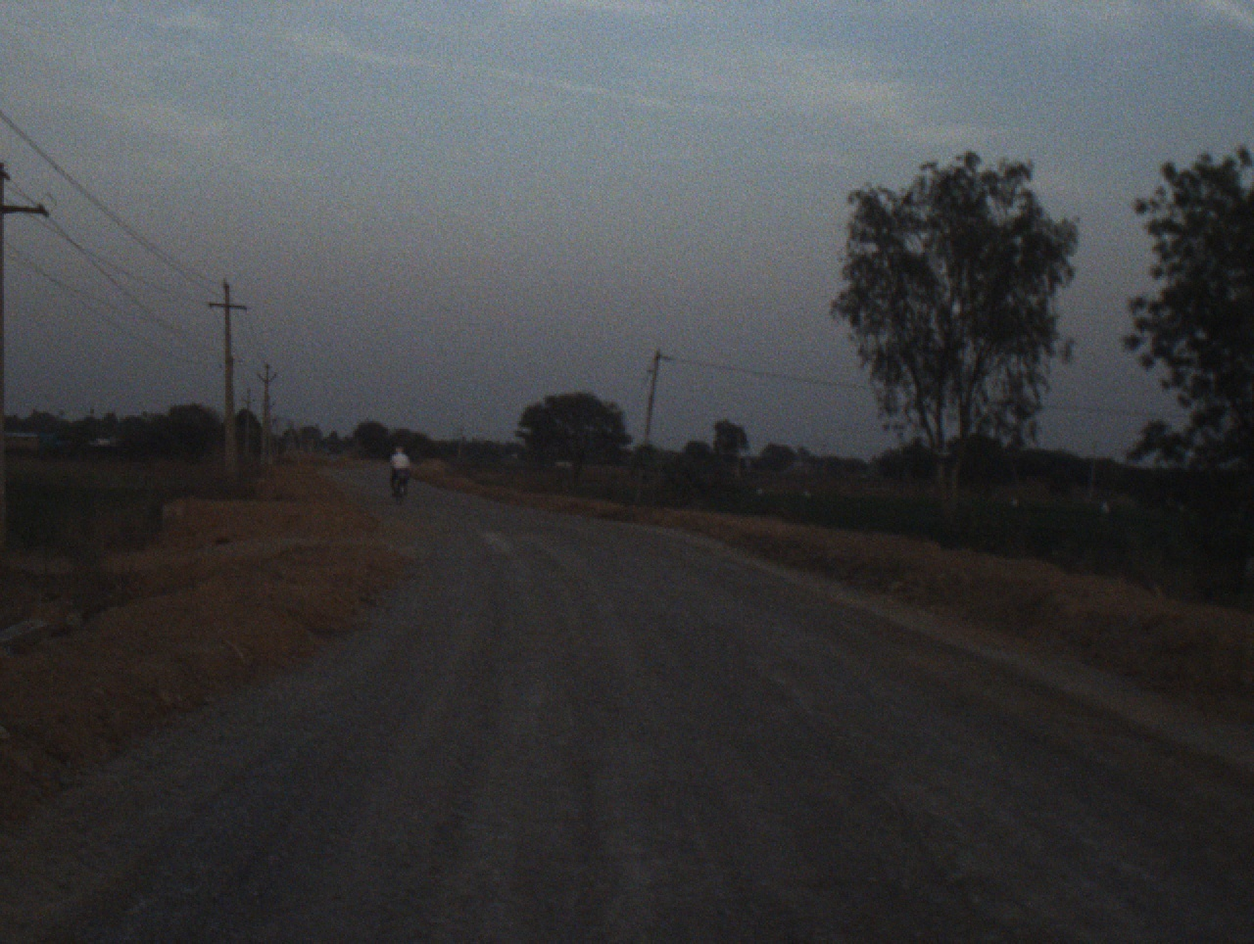bicycle: (392, 463, 408, 506)
rider: (385, 444, 413, 500)
